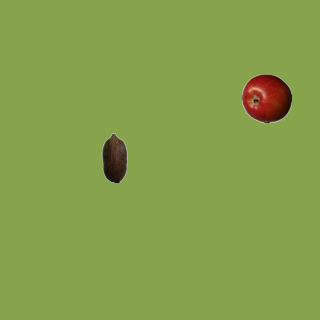Apple Braeburn: (241, 73, 291, 123)
Nut Pecan: (89, 132, 139, 182)
